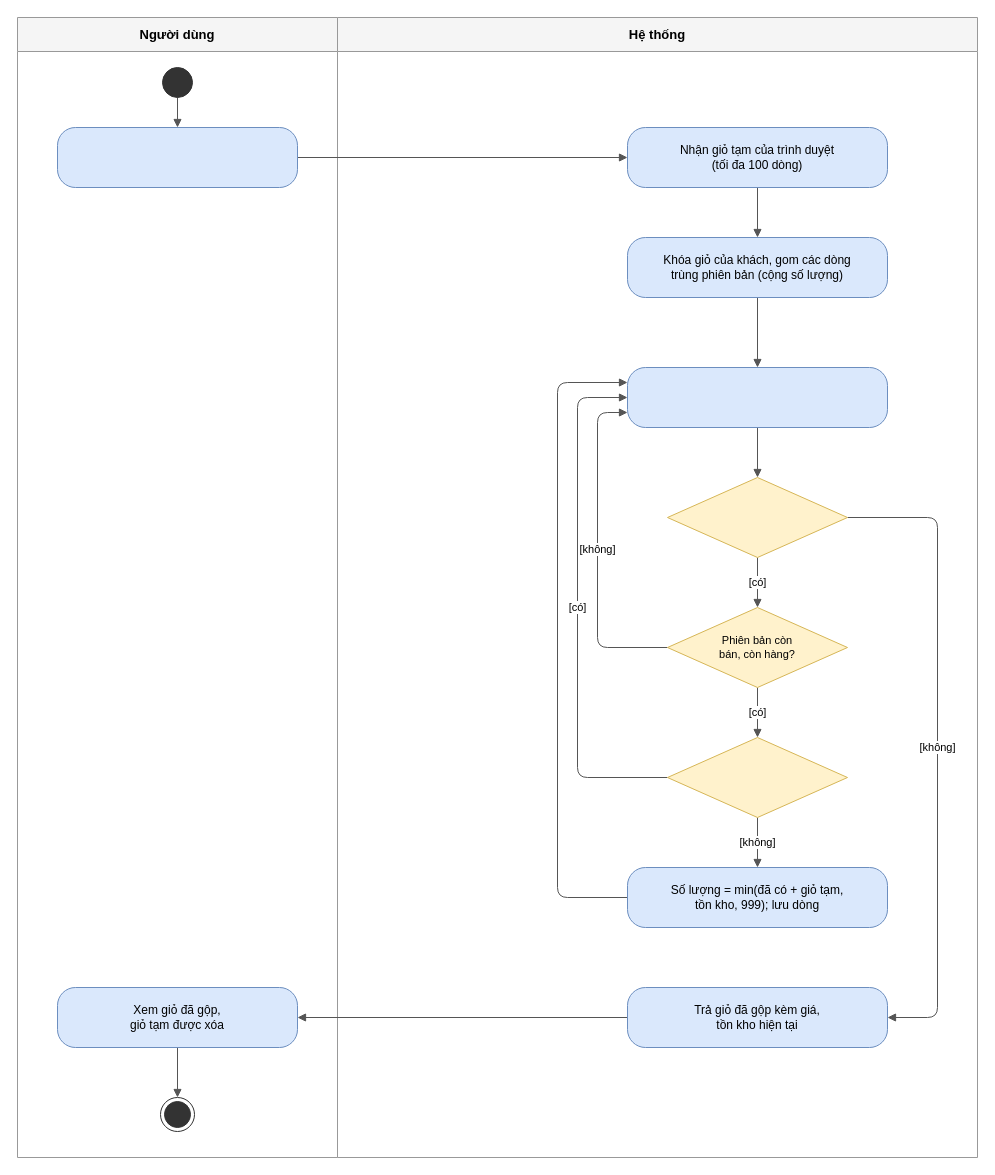
Image size: 995x1175. Some labels were removed from this diagram. Here are the shapes that lost their labels. From the top down, the box of each, then its label:
(56, 126, 298, 188): Đăng nhập khi giỏ tạm trên trình duyệt còn sản phẩm
(626, 366, 888, 428): Lấy dòng tiếp theo của giỏ tạm
(666, 476, 848, 558): Còn dòng?
(666, 736, 848, 818): Dòng mới và giỏ đã đủ 50 dòng?
